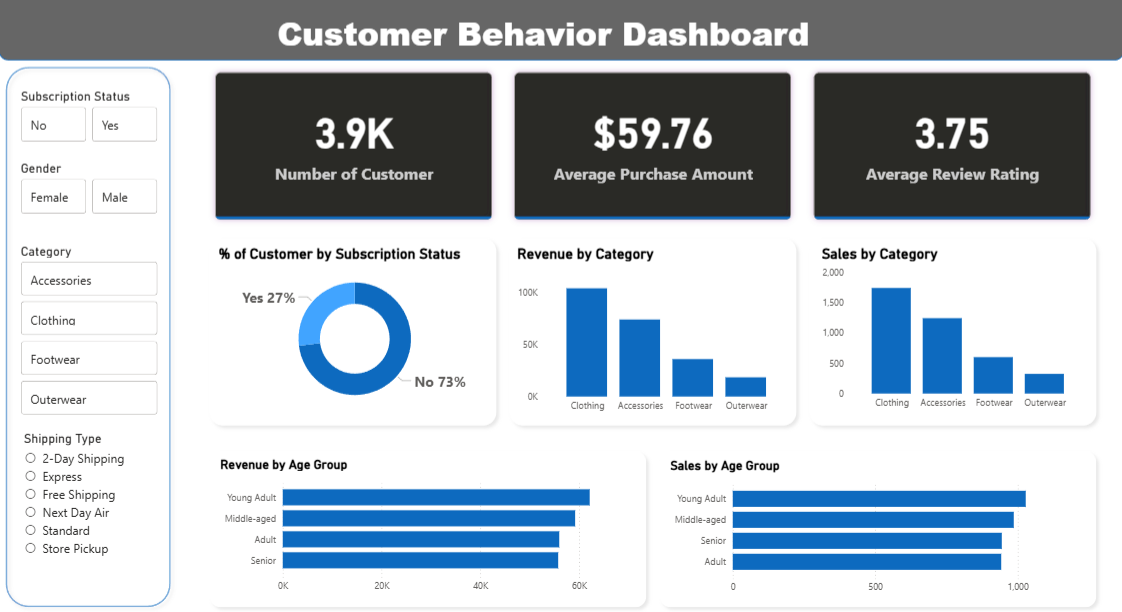

This screenshot's page, from the dashboard's own definition file:
{"tool":"powerbi","page":{"name":"Page 1","canvas":[1500,820],"ordinal":0},"visuals":[{"type":"cardVisual","fields":{"Data":["mydatabase customer.Number of Customer","mydatabase customer.Average Purchase Amount","mydatabase customer.Average Review Rating"]},"box":[272,82,1200,228],"z":0},{"type":"shape","box":[272,310,400,268],"z":2000},{"type":"donutChart","title":"% of Customer by Subscription Status","fields":{"Category":["mydatabase customer.subscription_status"],"Y":["CountNonNull(mydatabase customer.customer_id)"]},"box":[288,328,372,228],"z":3000},{"type":"shape","box":[1072,310,400,268],"z":4000},{"type":"shape","box":[672,310,400,268],"z":5000},{"type":"clusteredColumnChart","title":"Revenue by Category","fields":{"Y":["Sum(mydatabase customer.purchase_amount)"],"Category":["mydatabase customer.category"]},"box":[686,328,372,232],"z":6000},{"type":"clusteredColumnChart","title":"Sales by Category","fields":{"Y":["CountNonNull(mydatabase customer.customer_id)"],"Category":["mydatabase customer.category"]},"box":[1092,328,362,228],"z":7000},{"type":"shape","box":[0,82,238,738],"z":8000},{"type":"advancedSlicerVisual","title":"Subscription Status","fields":{"Values":["mydatabase customer.subscription_status"]},"box":[24,120,192,76],"z":9000},{"type":"advancedSlicerVisual","title":"Category","fields":{"Values":["mydatabase customer.category"]},"box":[24,326,192,234],"z":10000},{"type":"listSlicer","title":"Shipping Type","fields":{"Values":["mydatabase customer.shipping_type"]},"box":[28,576,192,222],"z":11000},{"type":"shape","box":[272,593,600,226],"z":12000},{"type":"shape","box":[872,593,600,226],"z":13000},{"type":"clusteredBarChart","title":"Revenue by Age Group","fields":{"Y":["Sum(mydatabase customer.purchase_amount)"],"Category":["mydatabase customer.age_group"]},"box":[290,610,564,190],"z":14000},{"type":"clusteredBarChart","title":"Sales by Age Group","fields":{"Y":["CountNonNull(mydatabase customer.customer_id)"],"Category":["mydatabase customer.age_group"]},"box":[890,612,564,190],"z":15000},{"type":"advancedSlicerVisual","title":"Gender","fields":{"Values":["mydatabase customer.gender"]},"box":[24,216,192,76],"z":16000},{"type":"shape","box":[0,0,1500,82.5],"z":17000},{"type":"textbox","box":[327.1,10,795.7,72.9],"z":18000}]}

Visuals, with their boxes in screenshot pixels (x1, y1, x2, y2), scaled from the page's 1500x820 canvas onto the 1122x612 screenshot:
cardVisual - mydatabase customer.Number of Customer x mydatabase customer.Average Purchase Amount: locate(203, 61, 1101, 231)
shape: locate(203, 231, 503, 431)
"% of Customer by Subscription Status" donutChart: locate(215, 245, 494, 415)
shape: locate(802, 231, 1101, 431)
shape: locate(503, 231, 802, 431)
"Revenue by Category" clusteredColumnChart: locate(513, 245, 791, 418)
"Sales by Category" clusteredColumnChart: locate(817, 245, 1088, 415)
shape: locate(0, 61, 178, 611)
"Subscription Status" advancedSlicerVisual: locate(18, 90, 162, 146)
"Category" advancedSlicerVisual: locate(18, 243, 162, 418)
"Shipping Type" listSlicer: locate(21, 430, 165, 596)
shape: locate(203, 443, 652, 611)
shape: locate(652, 443, 1101, 611)
"Revenue by Age Group" clusteredBarChart: locate(217, 455, 639, 597)
"Sales by Age Group" clusteredBarChart: locate(666, 457, 1088, 599)
"Gender" advancedSlicerVisual: locate(18, 161, 162, 218)
shape: locate(0, 0, 1121, 62)
textbox: locate(245, 7, 840, 62)
